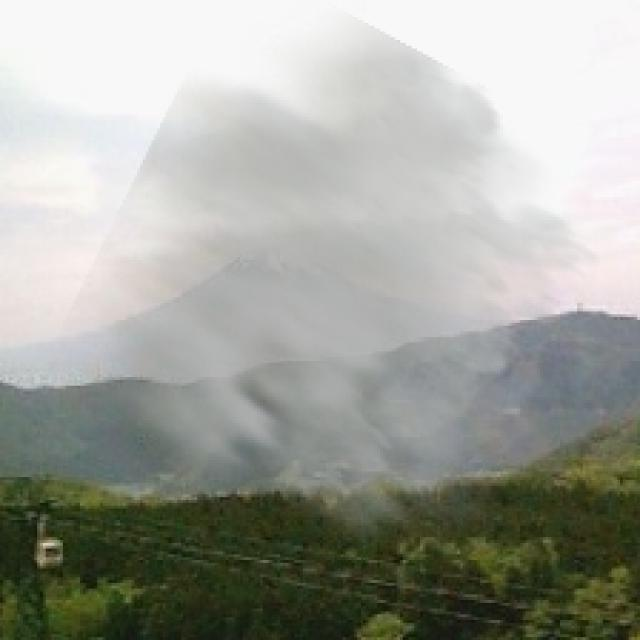Smoke: (34, 3, 603, 566)
